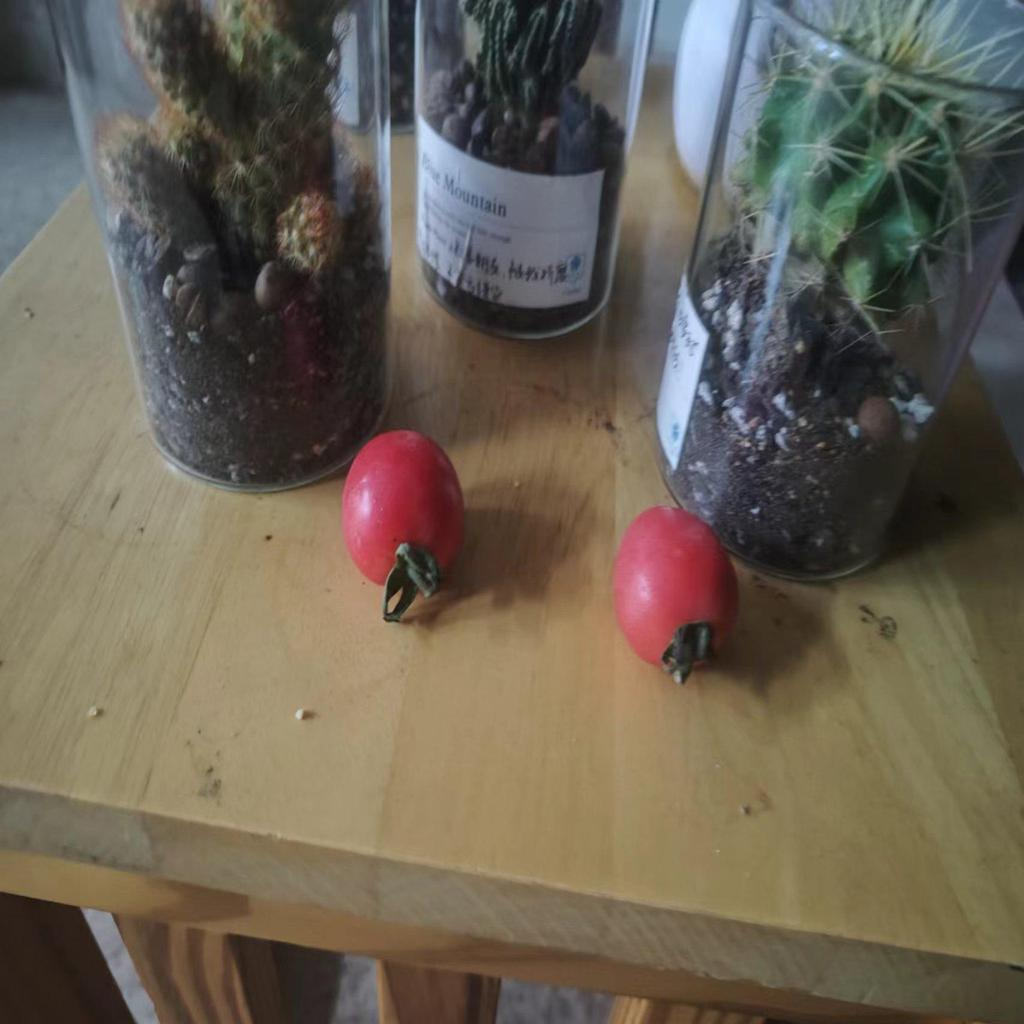tomato: (612, 494, 740, 686), (335, 431, 474, 602)
